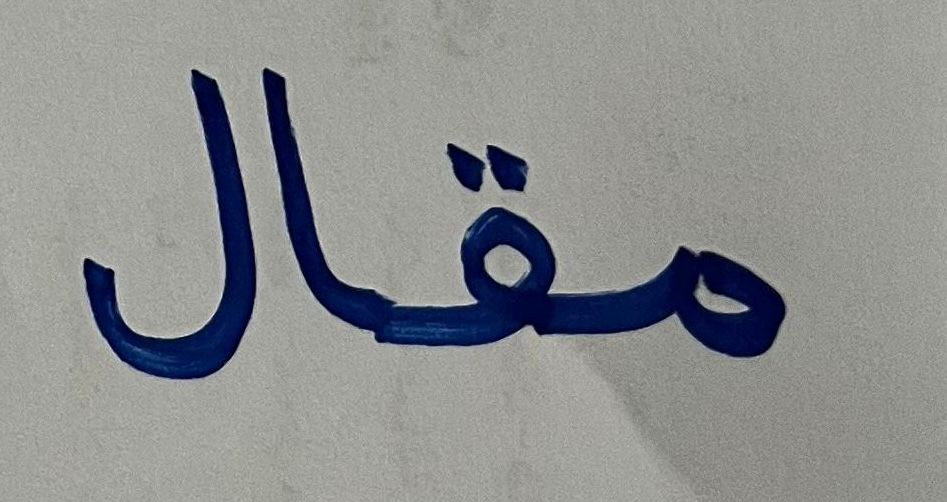alef: (262, 45, 369, 381)
lam: (57, 44, 256, 399)
meem: (598, 195, 805, 396)
qaf: (385, 119, 592, 392)
